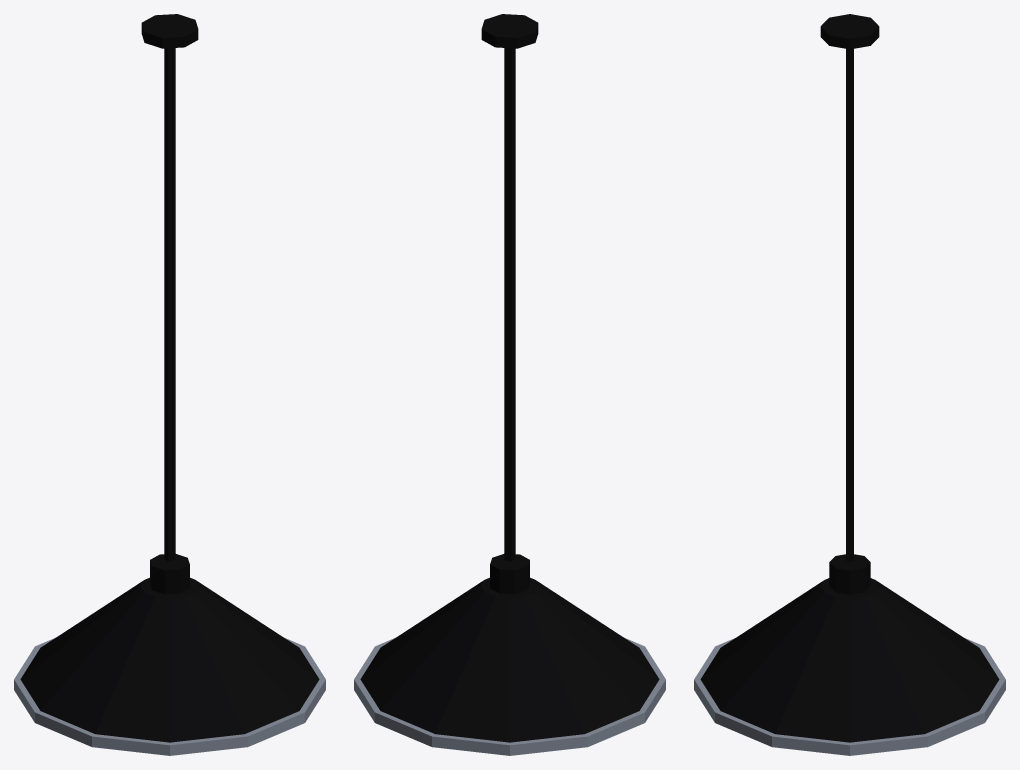
The model's file is SM_Light_Pendant_Industrial.glb.
The picture shows the model from 3 angles, left to right: view 1: azimuth 30°, elevation 25°; view 2: azimuth 150°, elevation 25°; view 3: azimuth 270°, elevation 25°; orthographic projection.
Parts seen in each view (by area): view 1: SM_Light_Pendant_Industrial; view 2: SM_Light_Pendant_Industrial; view 3: SM_Light_Pendant_Industrial.
Boxes of the visible parts, x1,y1,x2,y2 form: SM_Light_Pendant_Industrial: (14, 14, 325, 755); SM_Light_Pendant_Industrial: (354, 14, 665, 755); SM_Light_Pendant_Industrial: (694, 14, 1005, 755).
Size of the model in its own units: 0.53 by 1.25 by 0.53.
